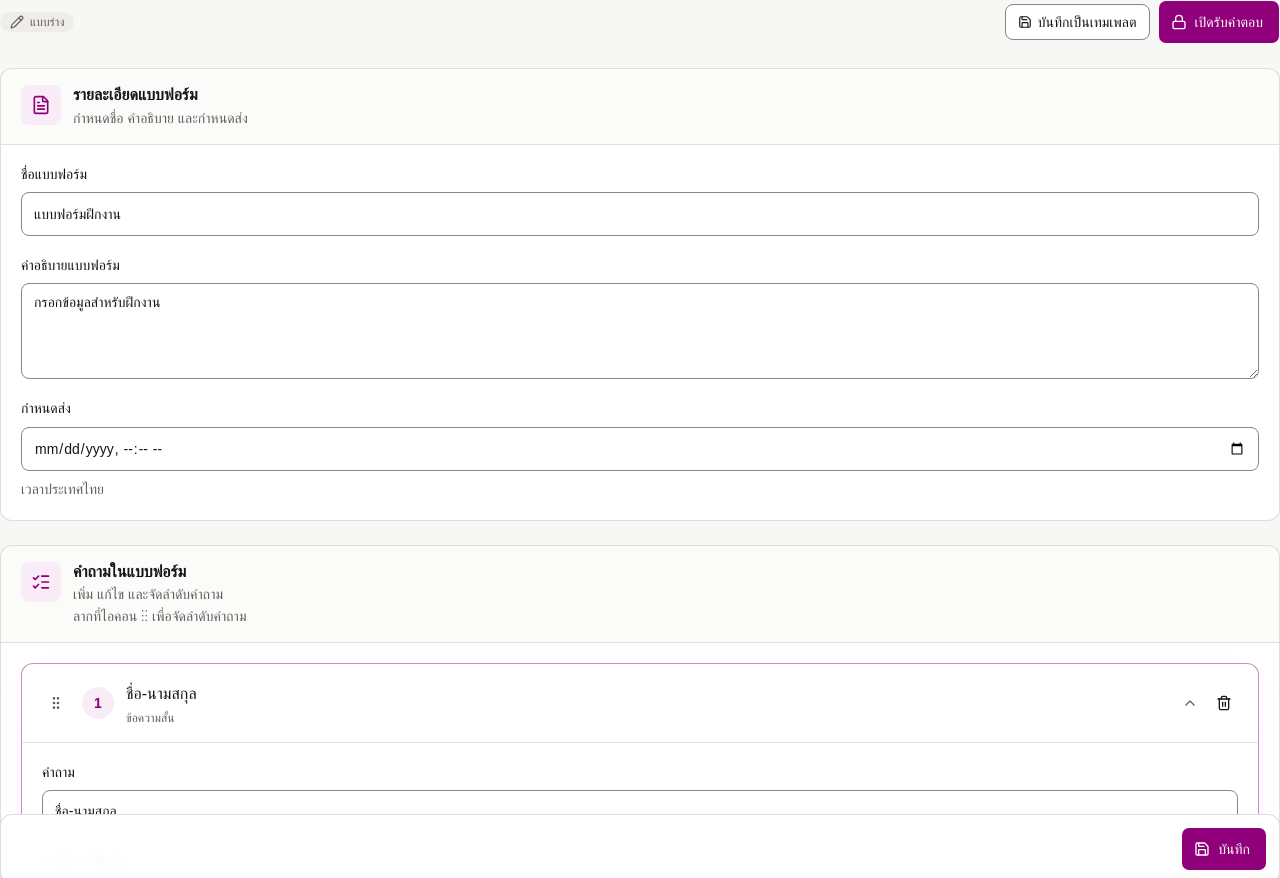
FormBuilder draft editing › shows the final preview only inside the open confirmation
Expected: the text "ตรวจสอบแบบฟอร์มครั้งสุดท้าย" is not shown
What coordinates should you click on to do the following:
click the button "เปิดรับคำตอบ"
I would click on:
 (1219, 22)
Its box is [1158,0,1279,44].
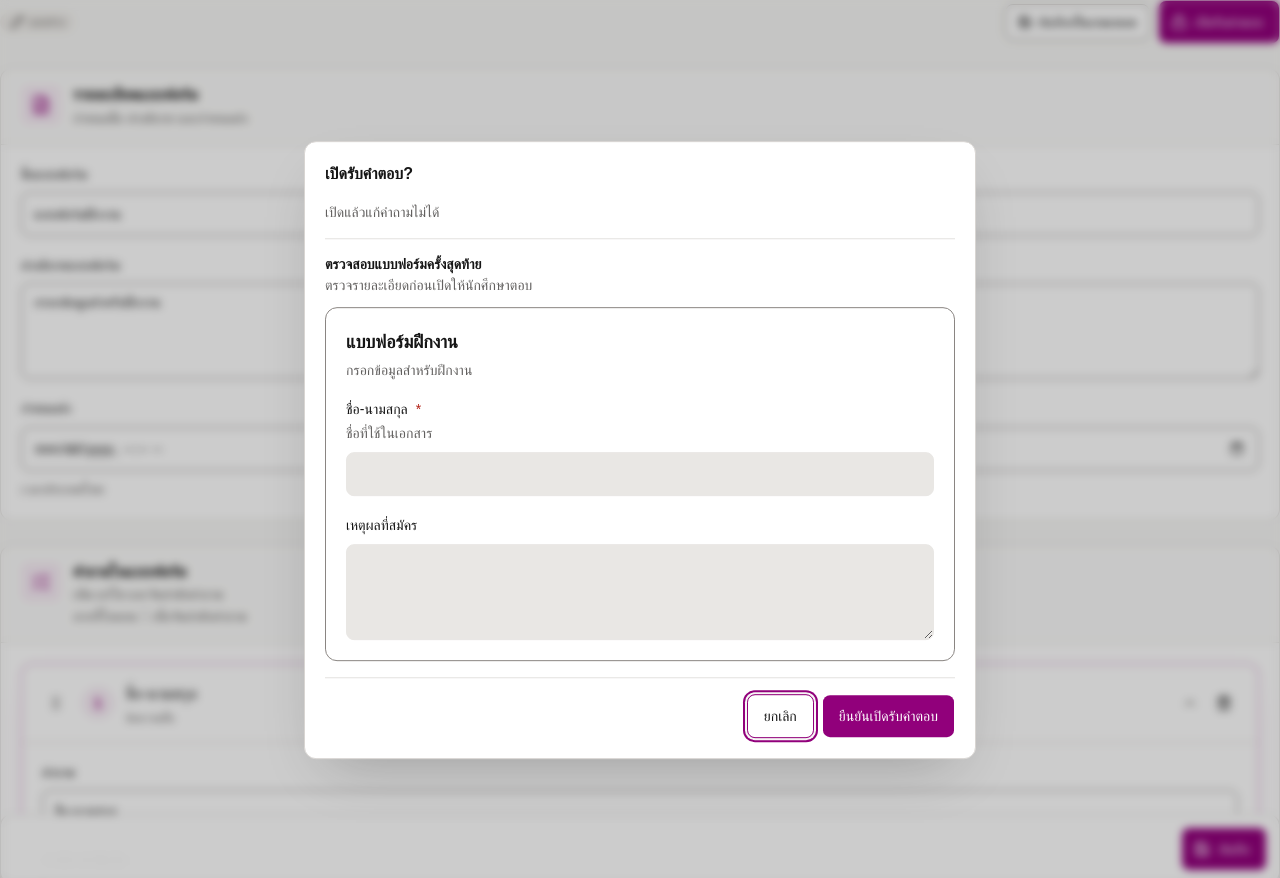
Now the heading "ตรวจสอบแบบฟอร์มครั้งสุดท้าย" is shown, box [325,256,481,272]
Now the heading "แบบฟอร์มฝึกงาน" is shown, box [346,332,458,352]
Now the text "ชื่อ-นามสกุล" is shown, box [346,401,408,417]
